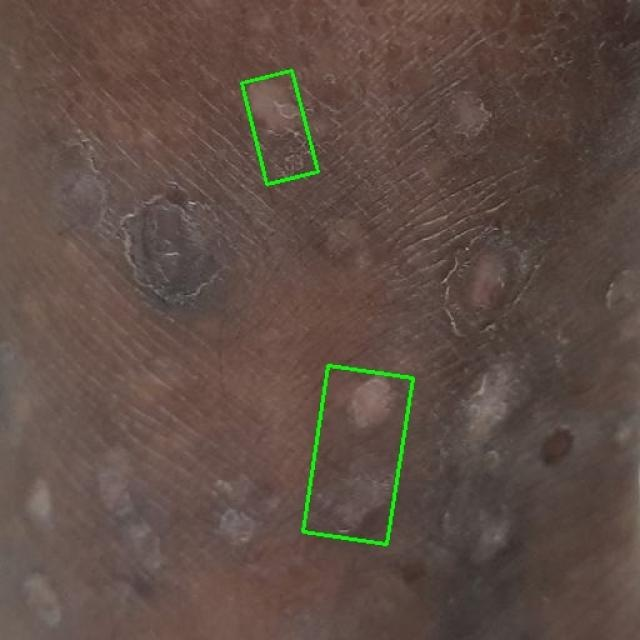Contact Dermatitis: (303, 365, 413, 545), (242, 70, 318, 184)
